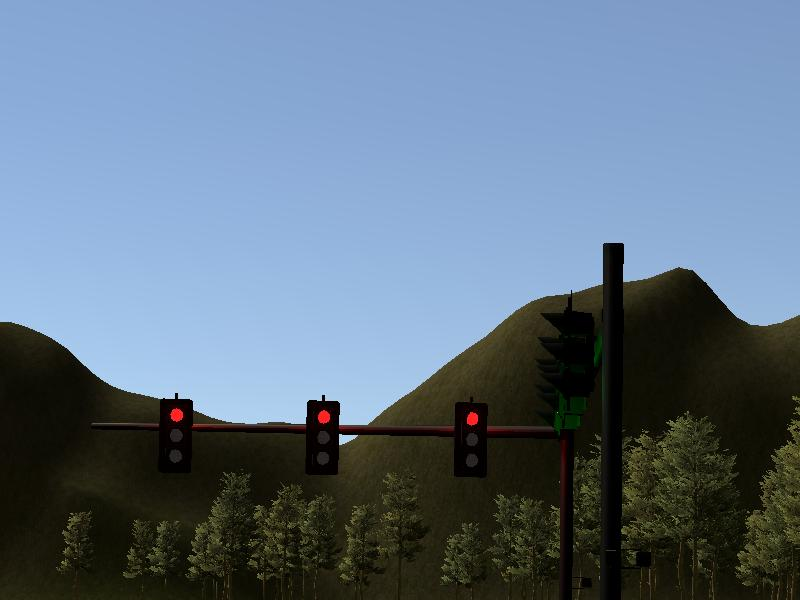Red: (455, 402, 487, 475), (308, 401, 340, 473), (162, 400, 191, 471)
